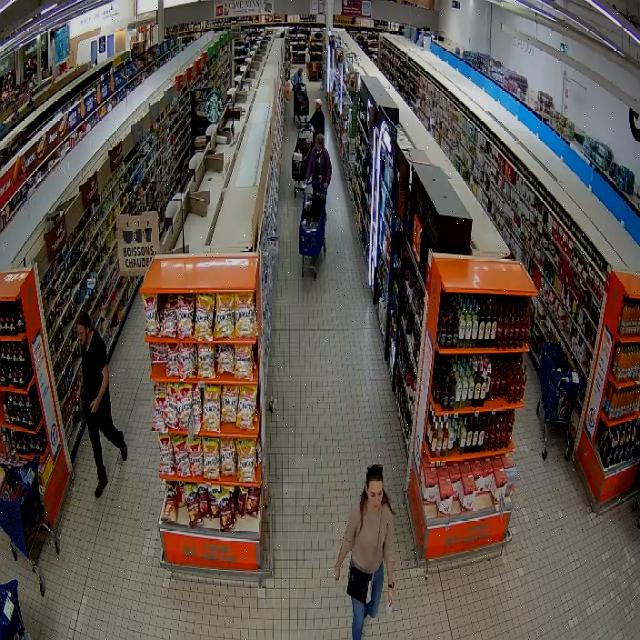bags: (347, 565, 372, 604)
hands: (90, 398, 99, 414), (388, 589, 395, 604), (334, 564, 340, 581), (76, 387, 80, 402), (305, 177, 311, 186), (323, 183, 328, 190)
person: (335, 465, 394, 639), (77, 310, 127, 497), (306, 135, 331, 190), (309, 99, 324, 134), (291, 67, 304, 86)
